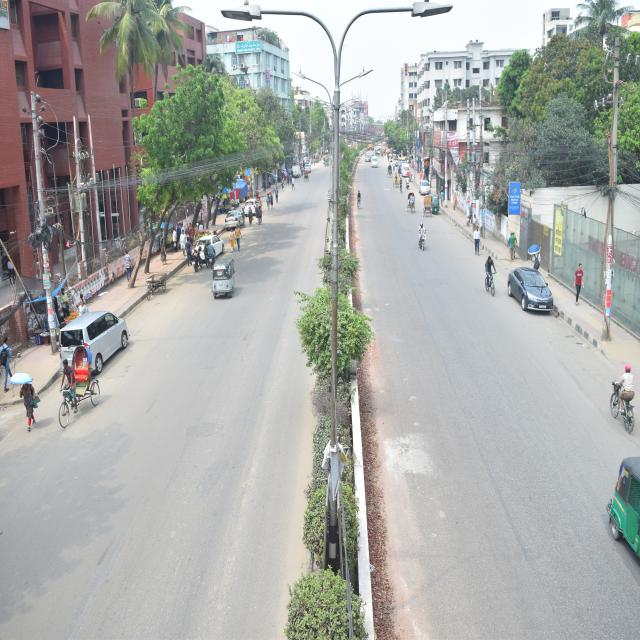car: (489, 234, 564, 328), (50, 294, 132, 376), (186, 223, 237, 277), (222, 194, 250, 255), (242, 180, 270, 227), (299, 148, 320, 188), (414, 172, 432, 202), (399, 162, 412, 187), (371, 155, 382, 178), (366, 150, 373, 168)
motorbike: (409, 215, 432, 256), (190, 236, 208, 284), (202, 232, 222, 266)
pickup-van: (289, 156, 305, 190)
